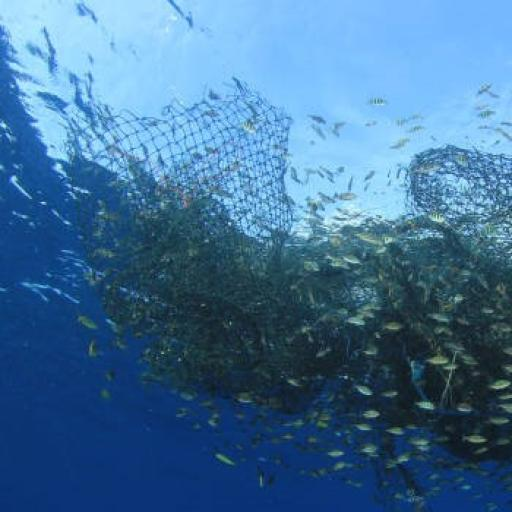net: (53, 72, 512, 476)
